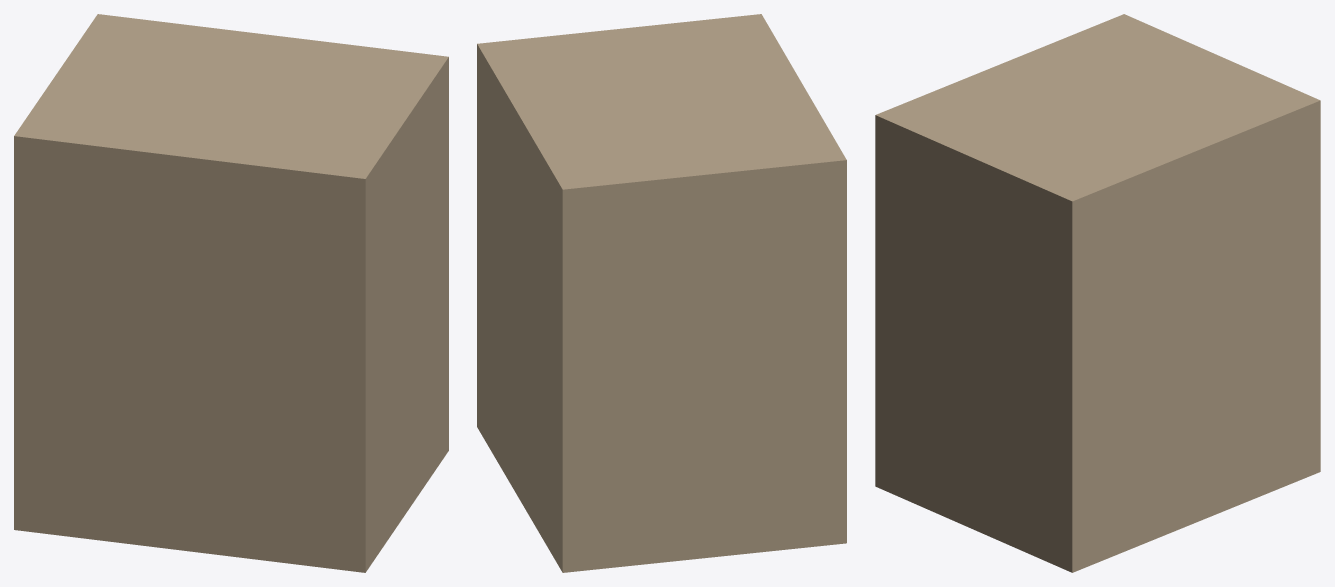
File: bld_99015973.dae
3 views of the same model, side by side, from view 1: azimuth 30°, elevation 25°; view 2: azimuth 150°, elevation 25°; view 3: azimuth 270°, elevation 25° (orthographic). The views are drawn at different scales.
Visible parts, largest first — view 1: bld_99015973; view 2: bld_99015973; view 3: bld_99015973.
Part boxes in pixels (bbox=[...]): bld_99015973: bbox=[14, 14, 448, 572]; bld_99015973: bbox=[477, 14, 846, 572]; bld_99015973: bbox=[875, 14, 1320, 572].
Bounding box in the file's own units: 8.66 × 8.69 × 8.
